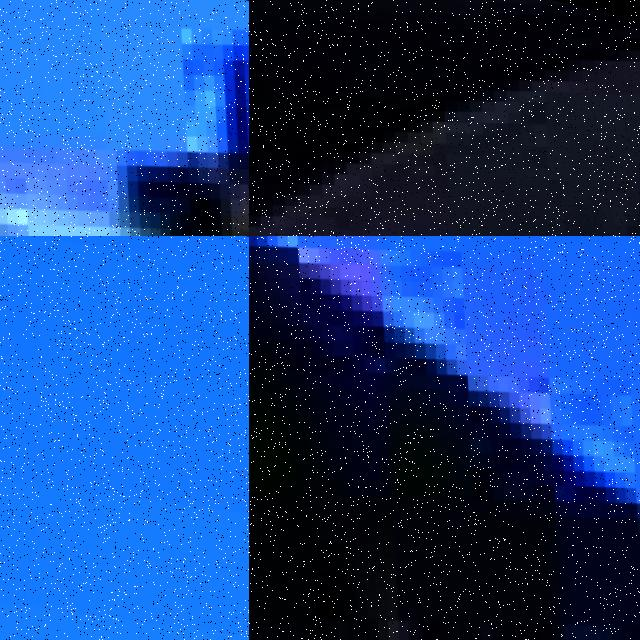drone: (249, 236, 640, 640), (249, 0, 640, 236), (0, 0, 249, 236)
